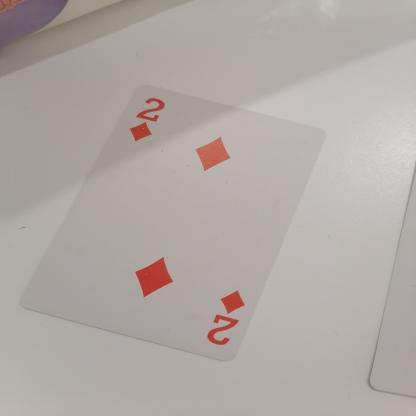2D: (200, 282, 251, 352), (119, 94, 180, 146)
